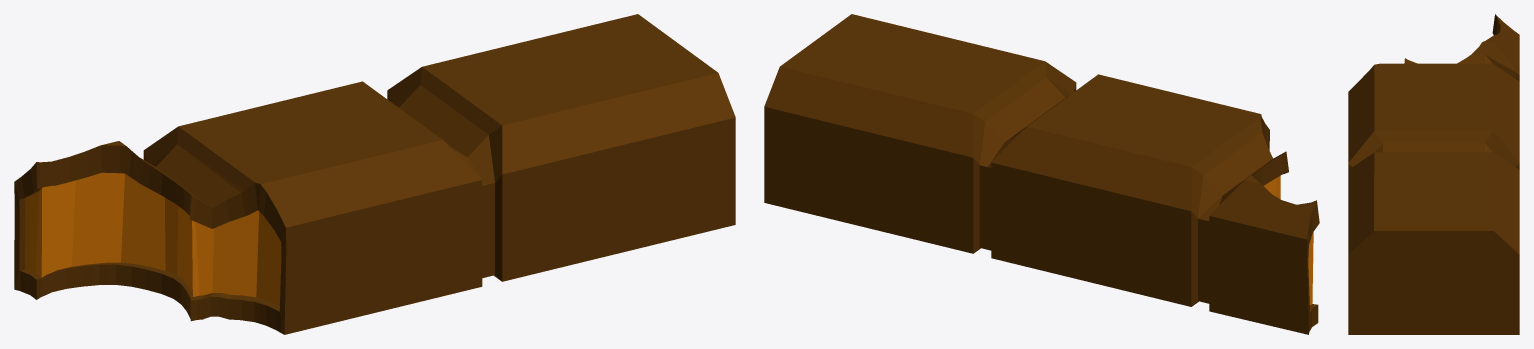
File: KinderRoto.fbx
The picture shows the model from 3 angles, left to right: view 1: azimuth 30°, elevation 25°; view 2: azimuth 150°, elevation 25°; view 3: azimuth 270°, elevation 25°; orthographic projection. The views are drawn at different scales.
Visible parts, largest first — view 1: KinderRoto; view 2: KinderRoto; view 3: KinderRoto.
Boxes of the visible parts, x1,y1,x2,y2 form: KinderRoto: [14, 14, 735, 334]; KinderRoto: [764, 14, 1319, 334]; KinderRoto: [1348, 14, 1519, 334].
Bounding box in the file's own units: 525 × 115 × 172.
